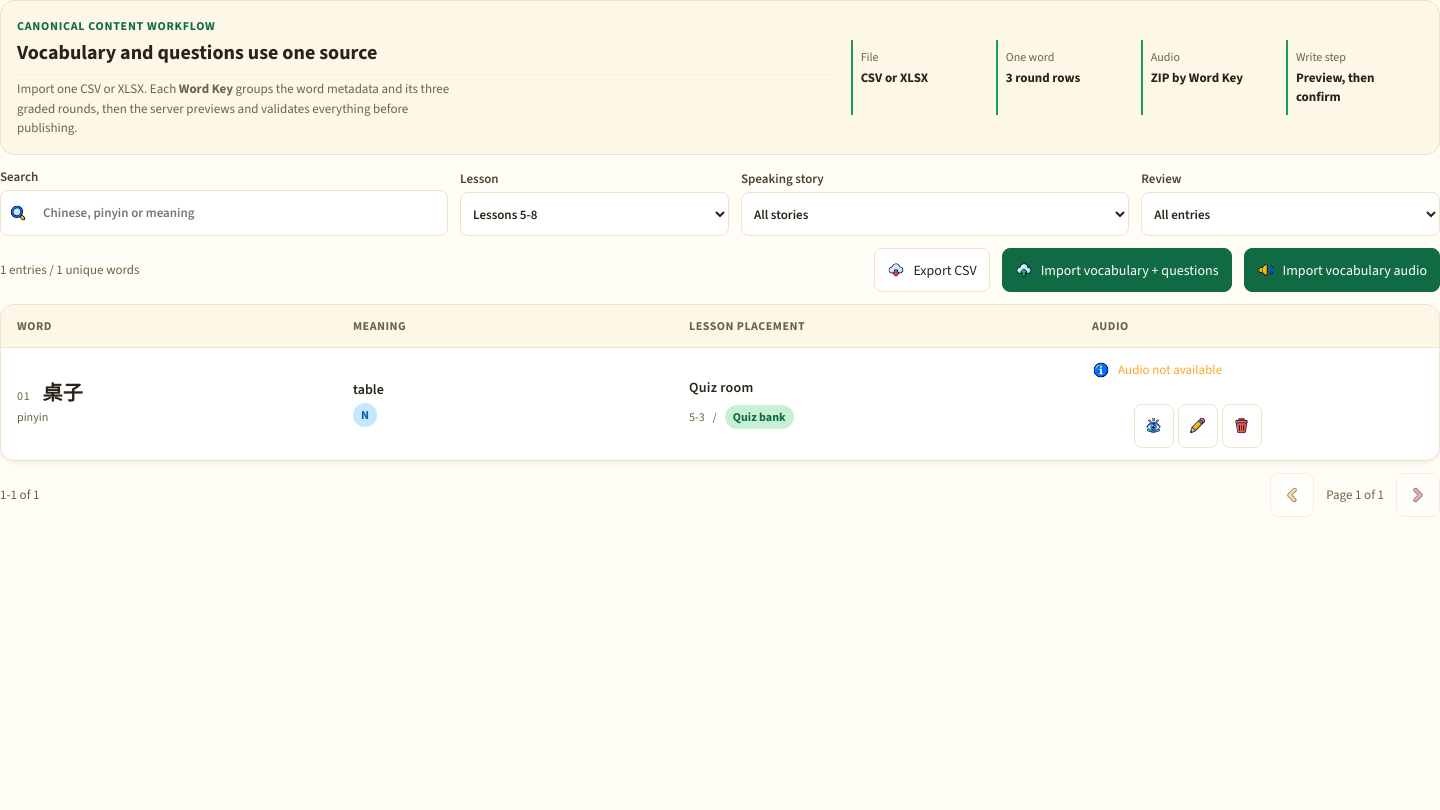
Scenario: Admin vocabulary page › updates the full quiz word and all round question data
Expected: the text "1 entries / 1 unique words" is shown, [0, 260, 140, 280]
Select "5-3 Quiz room" in the dropdown labelled "Speaking story": (935, 214) [741, 192, 1129, 236]
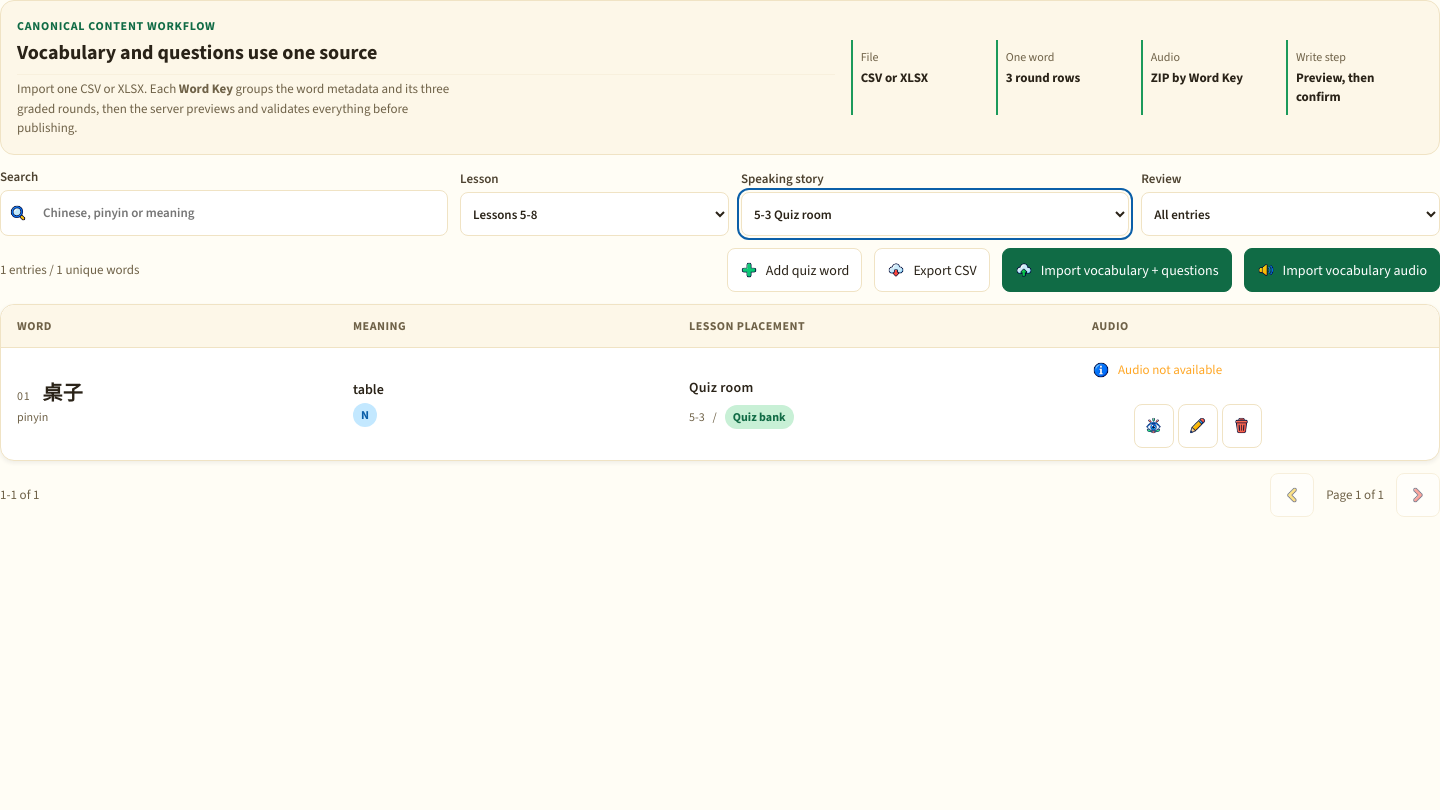
Click the button named "Edit 桌子, quiz vocabulary": (1198, 426) [1178, 404, 1218, 448]
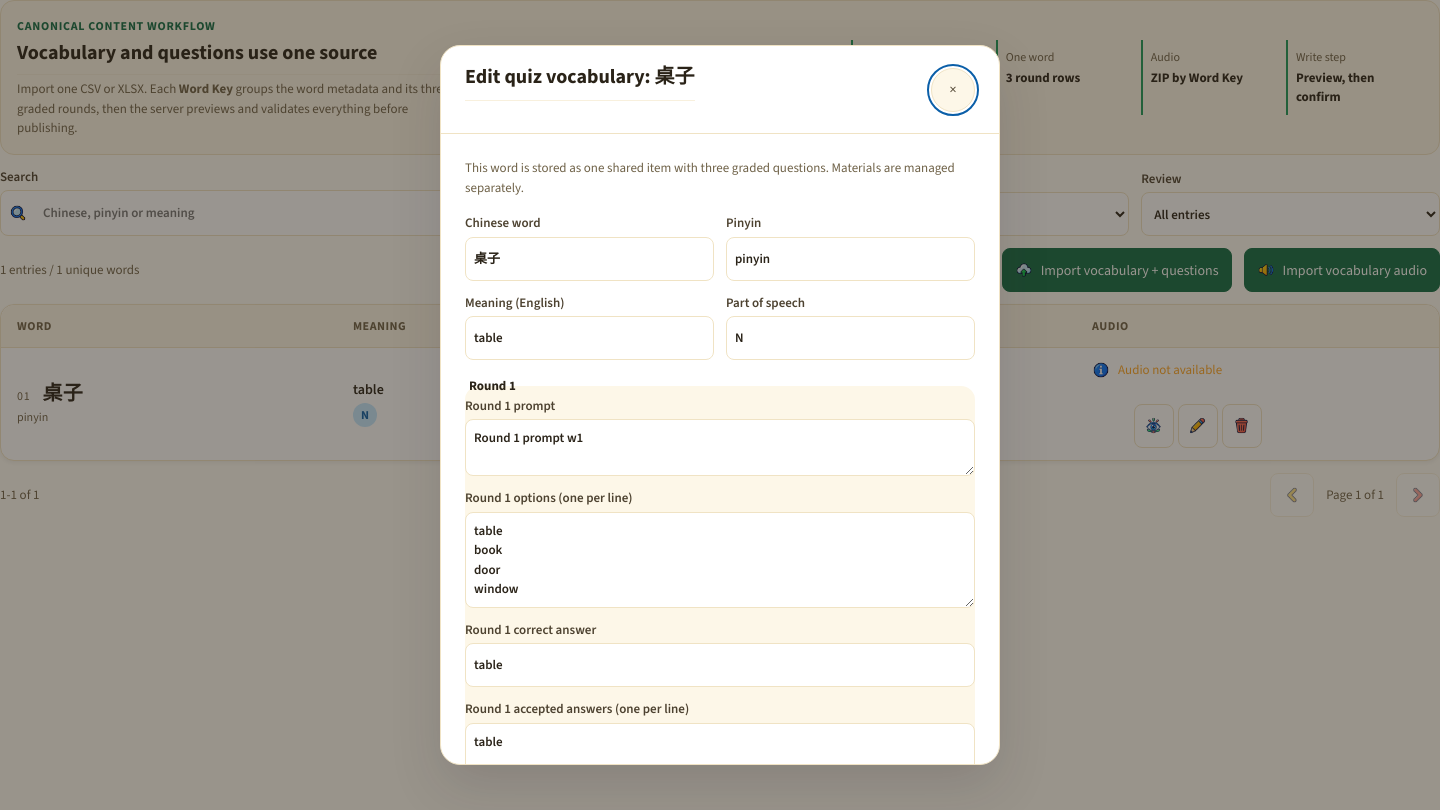
Replace the text in the field labelled "Chinese word" with "書桌": (590, 258) [465, 236, 714, 280]
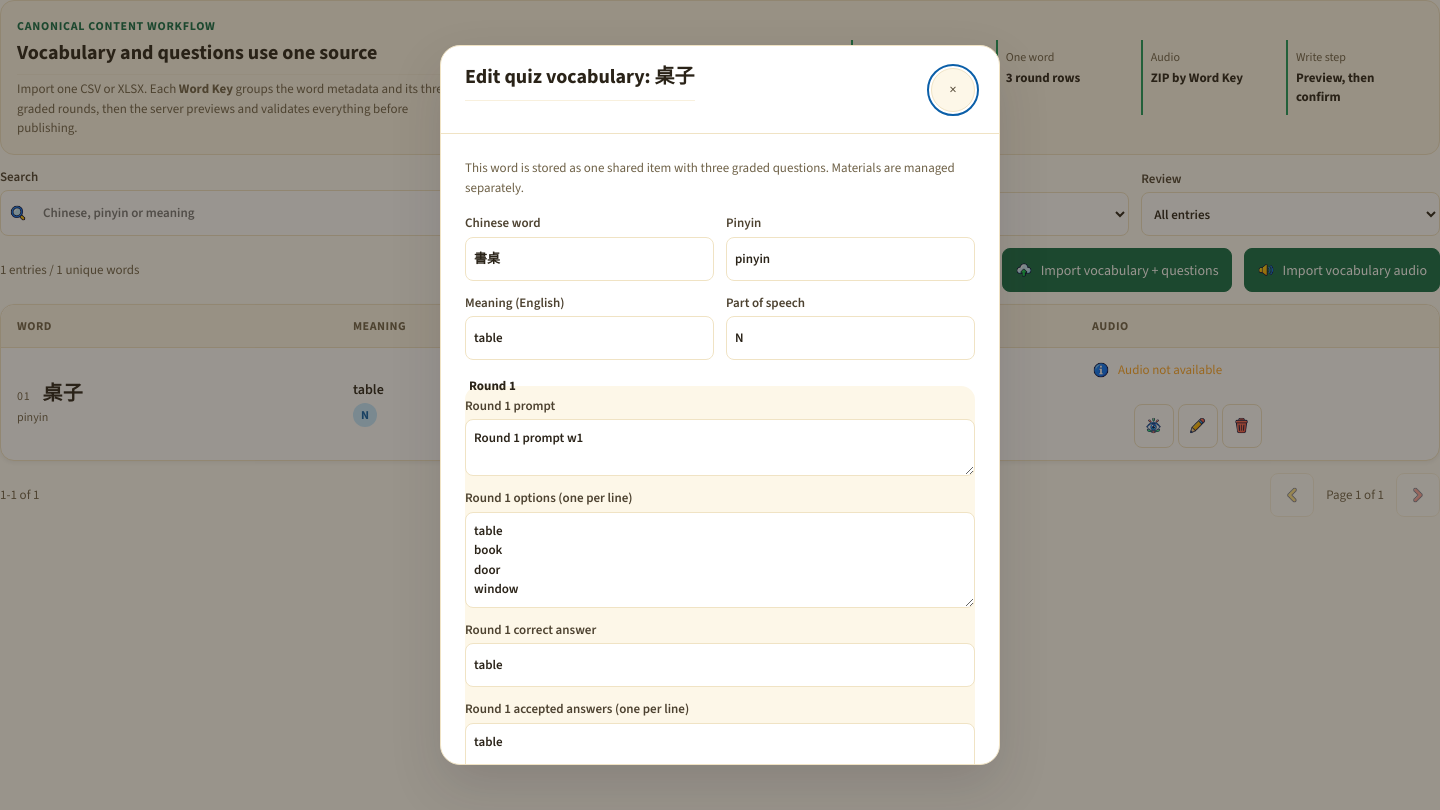
Replace the text in the field labelled "Meaning (English)" with "desk": (590, 338) [465, 316, 714, 360]
(page scrolled)
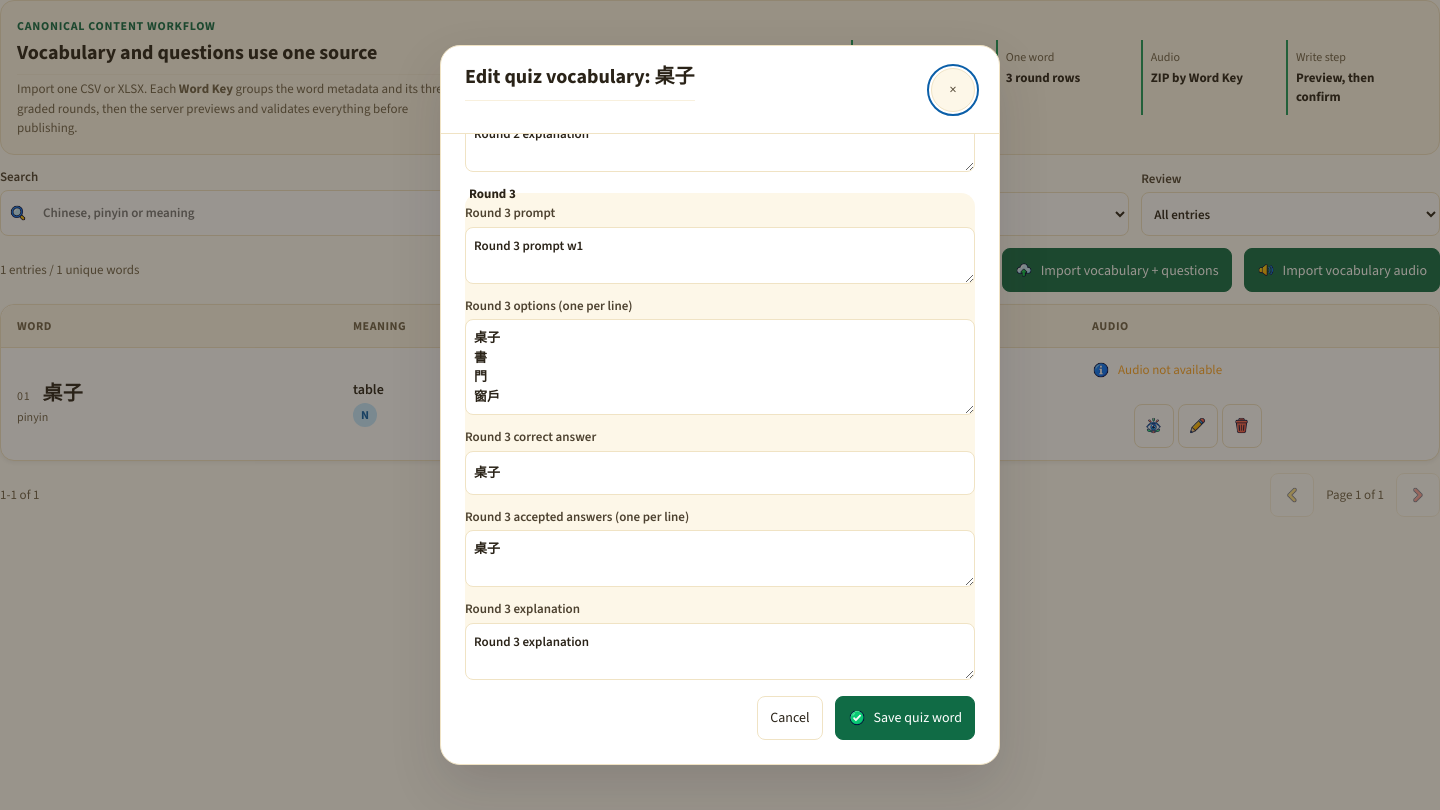
Click the button "Save quiz word": (905, 718) [835, 696, 975, 740]
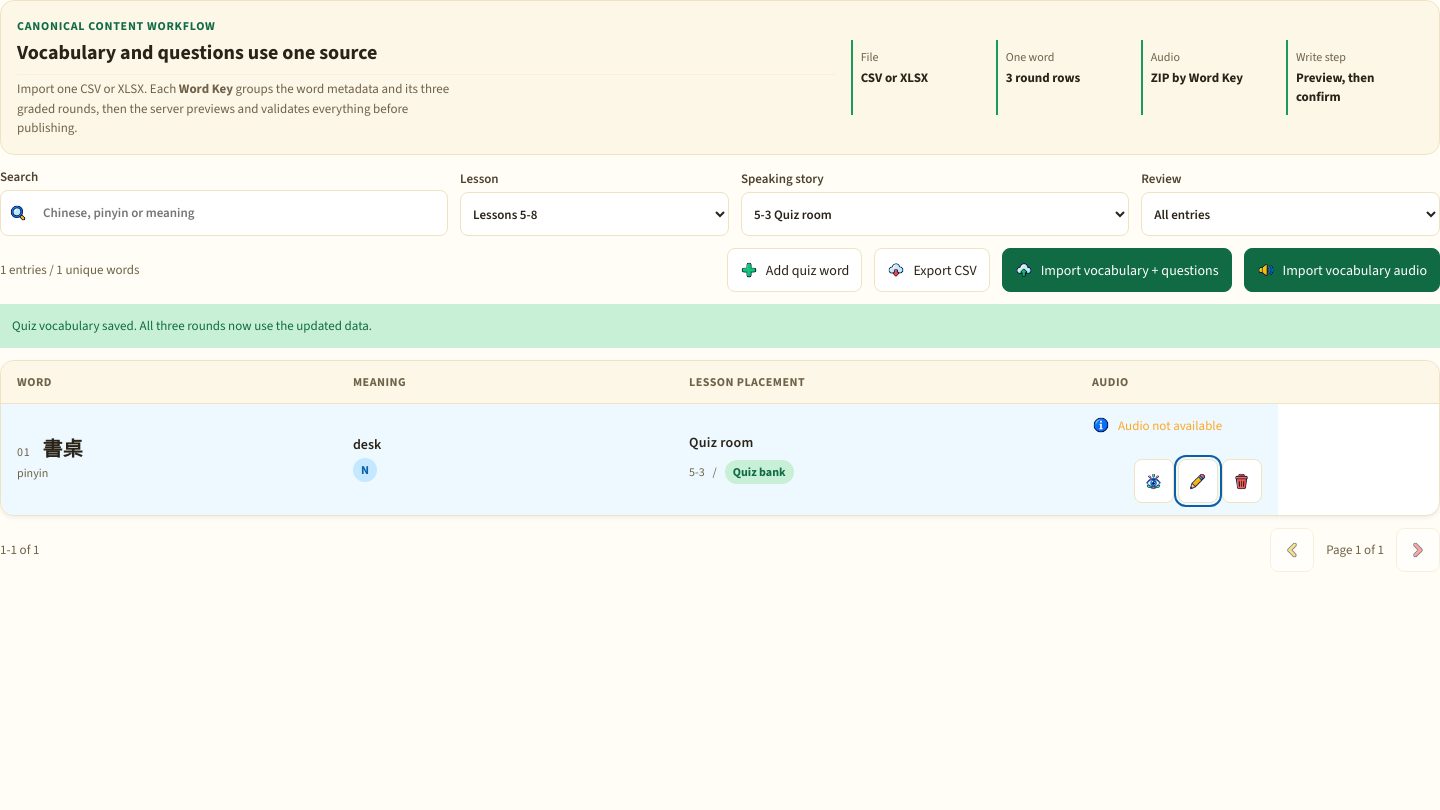
Expected: the text "Quiz vocabulary saved. All three rounds now use the updated data." is shown, [0, 304, 1439, 348]
